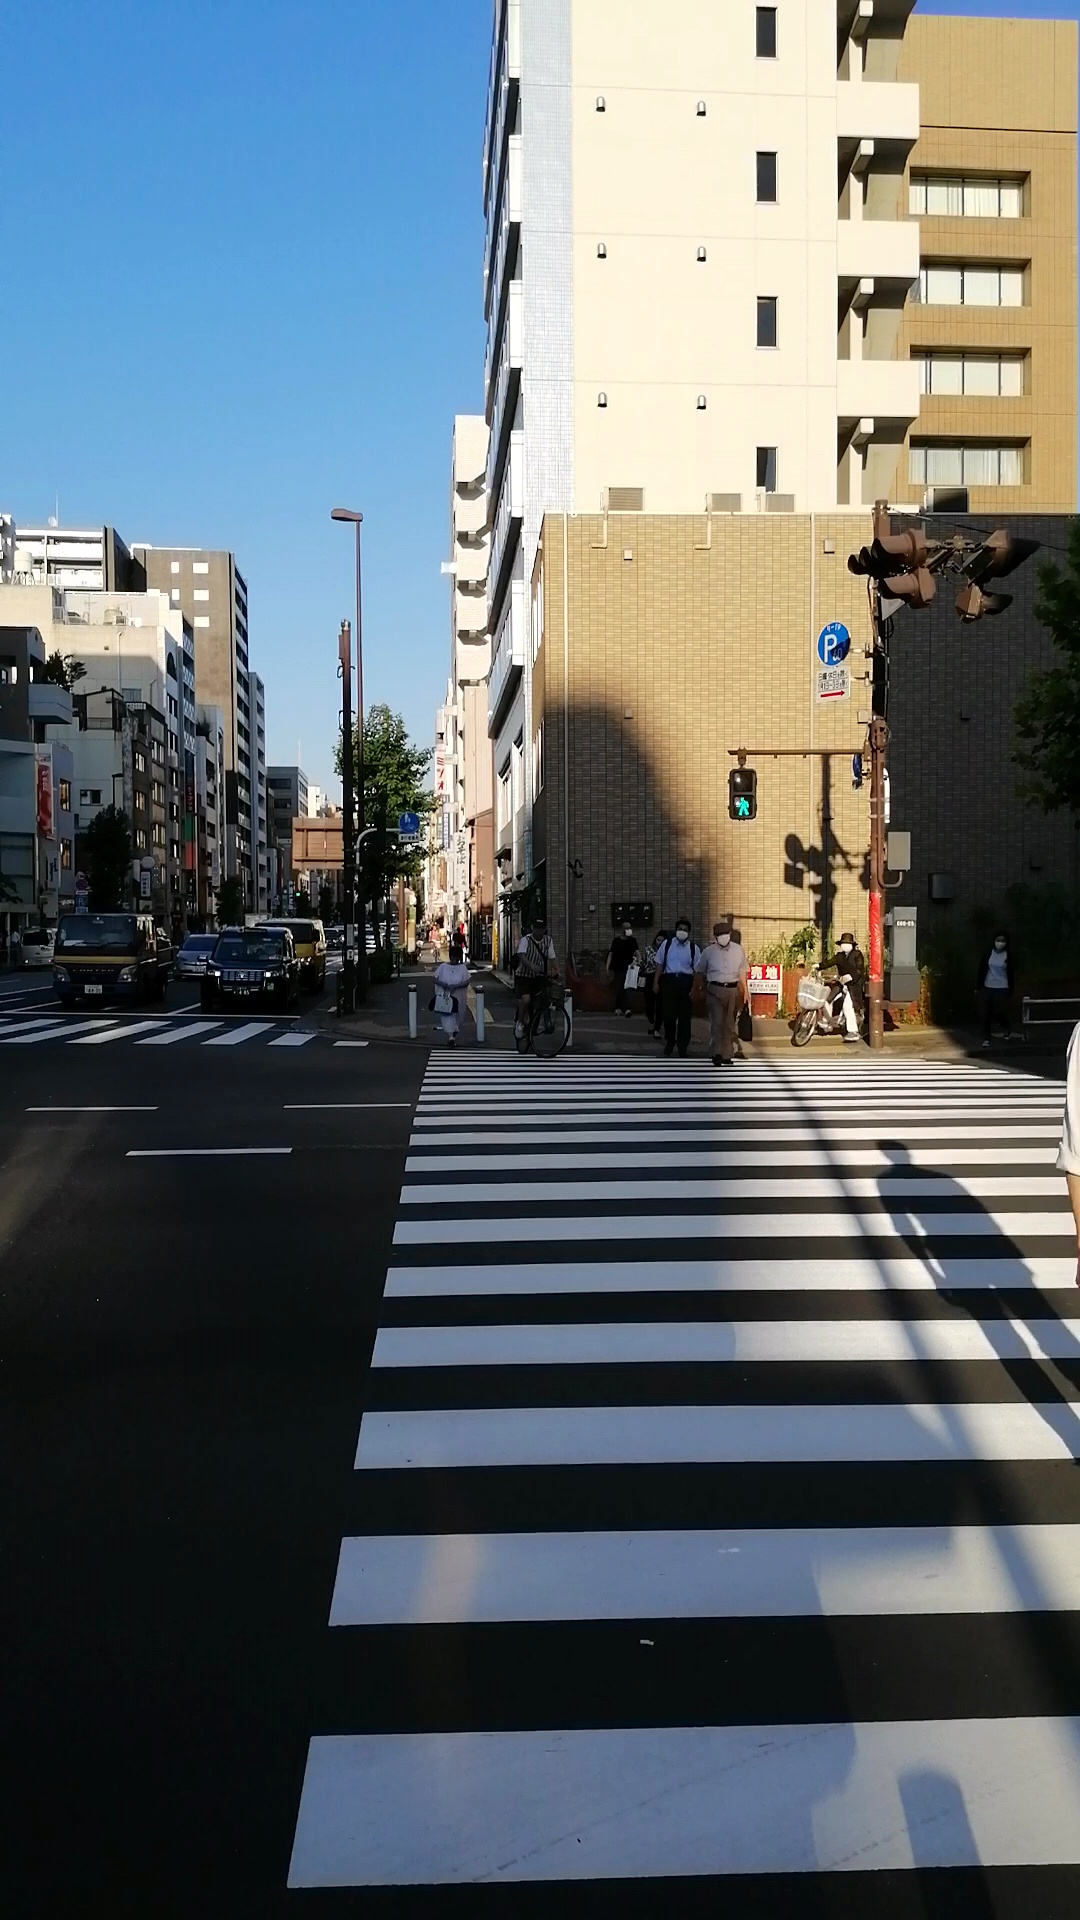green: (727, 766, 760, 825)
